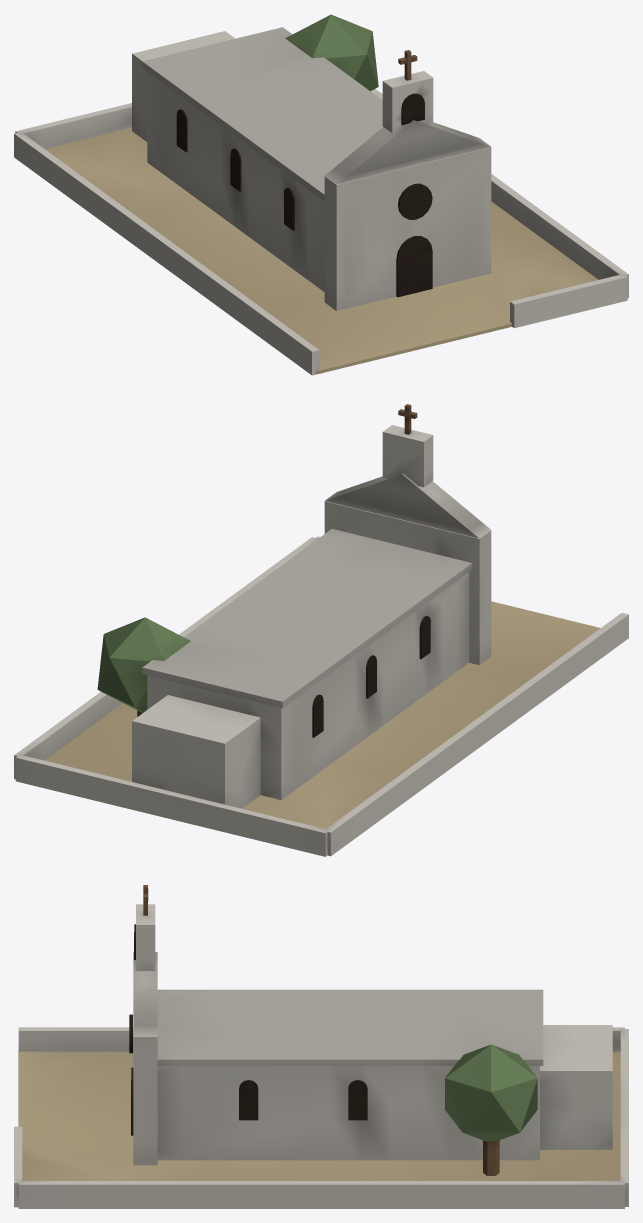
Rendered from akbars-church.glb.
The picture shows the model from 3 angles, top to bottom: view 1: azimuth 30°, elevation 25°; view 2: azimuth 150°, elevation 25°; view 3: azimuth 270°, elevation 25°; orthographic projection.
Visible parts, largest first — view 1: p0_church, p1_front, p2_bell; view 2: p0_church, p1_front, p2_bell; view 3: p0_church, p2_bell, p1_front.
Boxes of the visible parts, x1,y1,x2,y2 form: p0_church: [14, 27, 628, 375]; p1_front: [176, 109, 491, 310]; p2_bell: [285, 14, 433, 133]; p0_church: [14, 529, 628, 856]; p1_front: [312, 473, 491, 737]; p2_bell: [97, 404, 433, 716]; p0_church: [14, 989, 628, 1208]; p2_bell: [134, 885, 537, 1175]; p1_front: [129, 952, 367, 1165].
Size of the model in its own units: 30.7 by 22.22 by 50.7.
